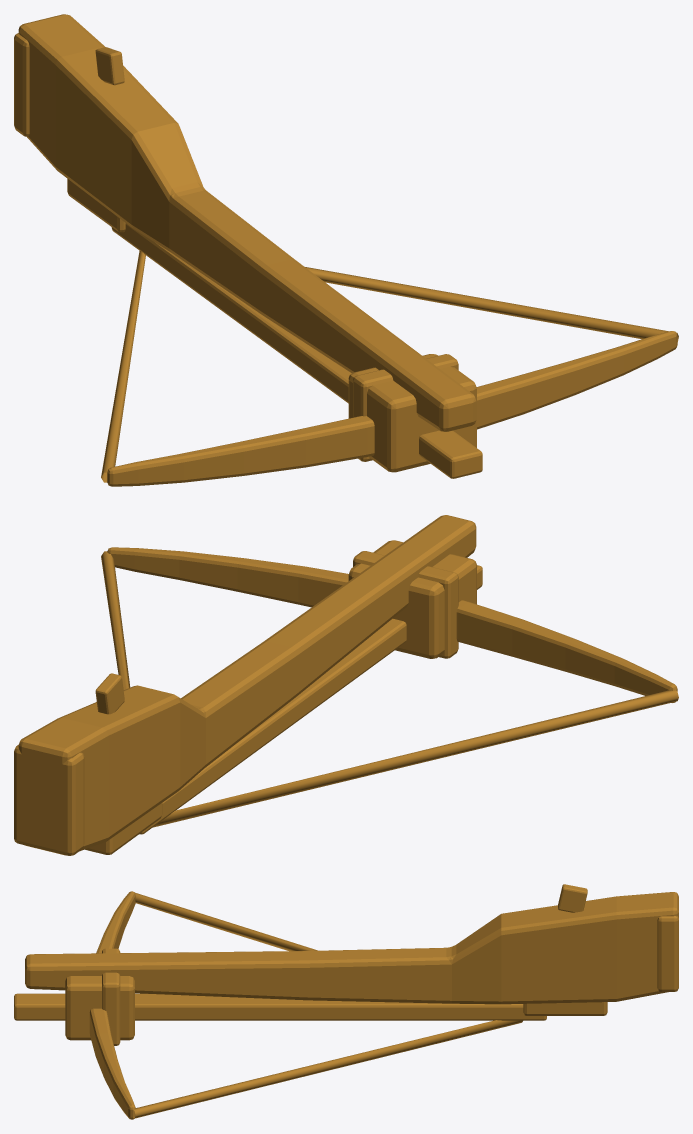
The model's file is AuxiliaReinforcedCrossbow.fbx.
The picture shows the model from 3 angles, top to bottom: view 1: azimuth 30°, elevation 25°; view 2: azimuth 150°, elevation 25°; view 3: azimuth 270°, elevation 25°; orthographic projection. The views are drawn at different scales.
Parts seen in each view (by area): view 1: AuxiliaReinforcedCrossbow_GameExport; view 2: AuxiliaReinforcedCrossbow_GameExport; view 3: AuxiliaReinforcedCrossbow_GameExport.
Boxes of the visible parts, <box> form: AuxiliaReinforcedCrossbow_GameExport: <box>14,14,678,486</box>; AuxiliaReinforcedCrossbow_GameExport: <box>14,515,678,855</box>; AuxiliaReinforcedCrossbow_GameExport: <box>14,884,678,1119</box>.
Size of the model in its own units: 28.45 by 36.3 by 8.61.
